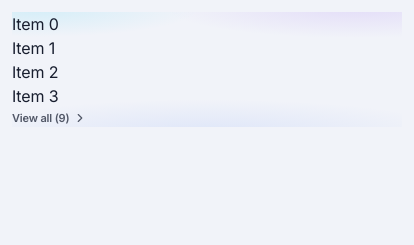
it: 'View all (N)' reveals the rows it promises › renders the hidden rows when pressed — the whole point of the button
The width and height of the screenshot is (414, 245).
Click the button with test id "exec-more-attention".
click(41, 118)  # box [12,108,402,126]
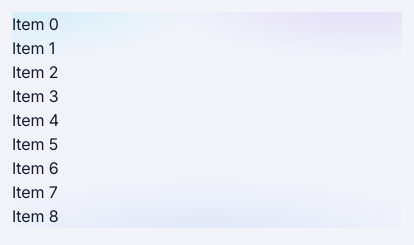
Expected: the text "Item 0" is shown 9 times
Expected: the text "Item 8" is shown, [12,206,58,226]
